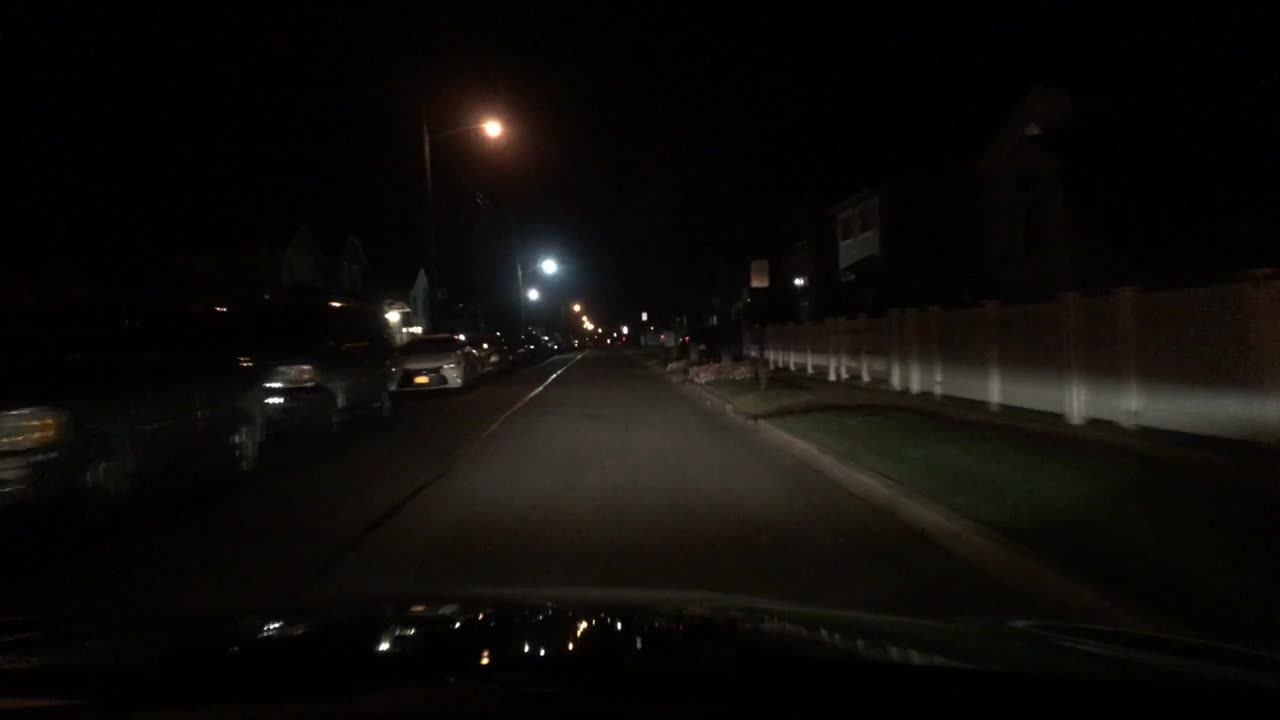car: (0, 265, 264, 537), (239, 293, 413, 440), (374, 331, 486, 407), (453, 326, 497, 375), (492, 326, 530, 366), (515, 324, 548, 363), (675, 326, 715, 348), (603, 328, 629, 352), (547, 331, 570, 353), (567, 333, 592, 348)
traffic sign: (747, 253, 772, 289)
